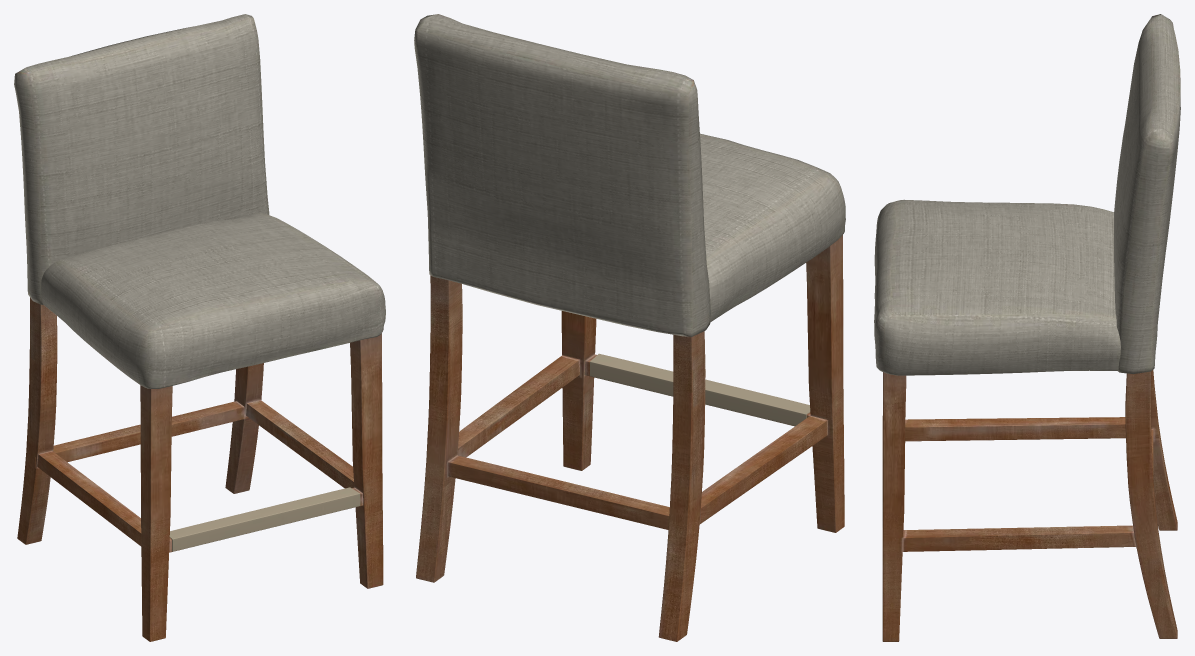
The model's file is abo-B07HSLQ2QZ.glb.
The picture shows the model from 3 angles, left to right: view 1: azimuth 30°, elevation 25°; view 2: azimuth 150°, elevation 25°; view 3: azimuth 270°, elevation 25°; orthographic projection. The views are drawn at different scales.
Size of the model in its own units: 0.567 by 1.04 by 0.567.
1 material, 1 textured.
